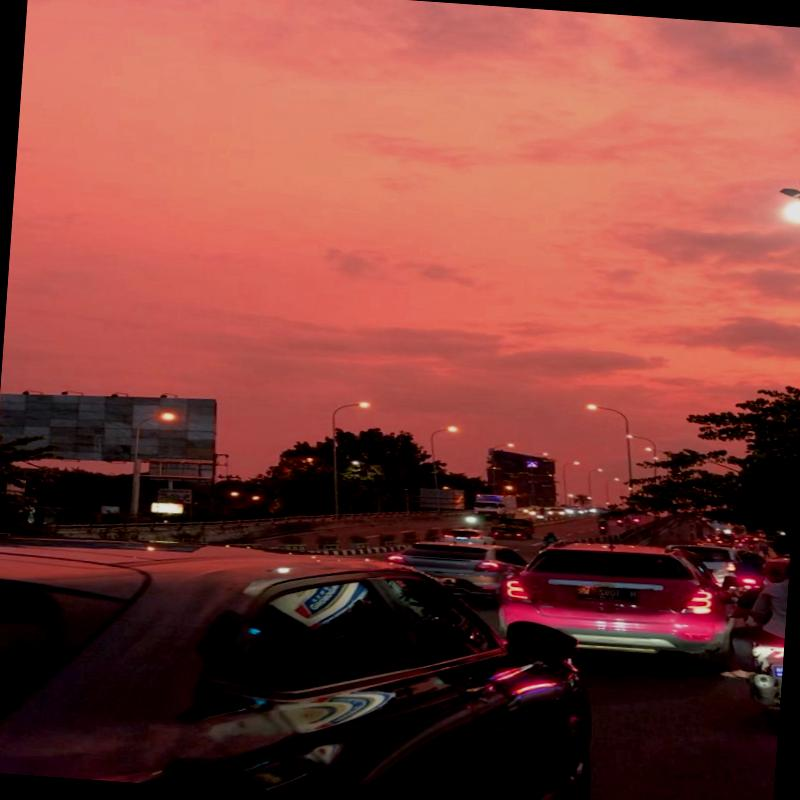license plate on a car: (576, 586, 636, 602)
